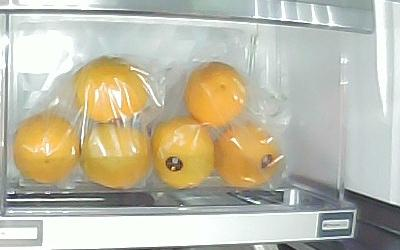orange_vinyl: (71, 56, 150, 125), (12, 112, 82, 184), (80, 123, 152, 190), (152, 117, 216, 190), (183, 59, 248, 128), (214, 121, 279, 188)
